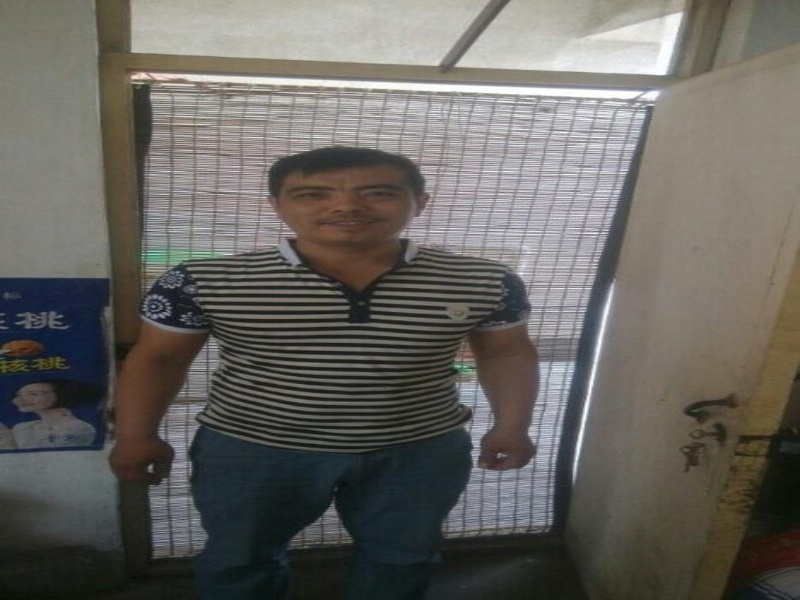short_sleeved_shirt: (132, 235, 542, 457)
trousers: (176, 411, 480, 599)
